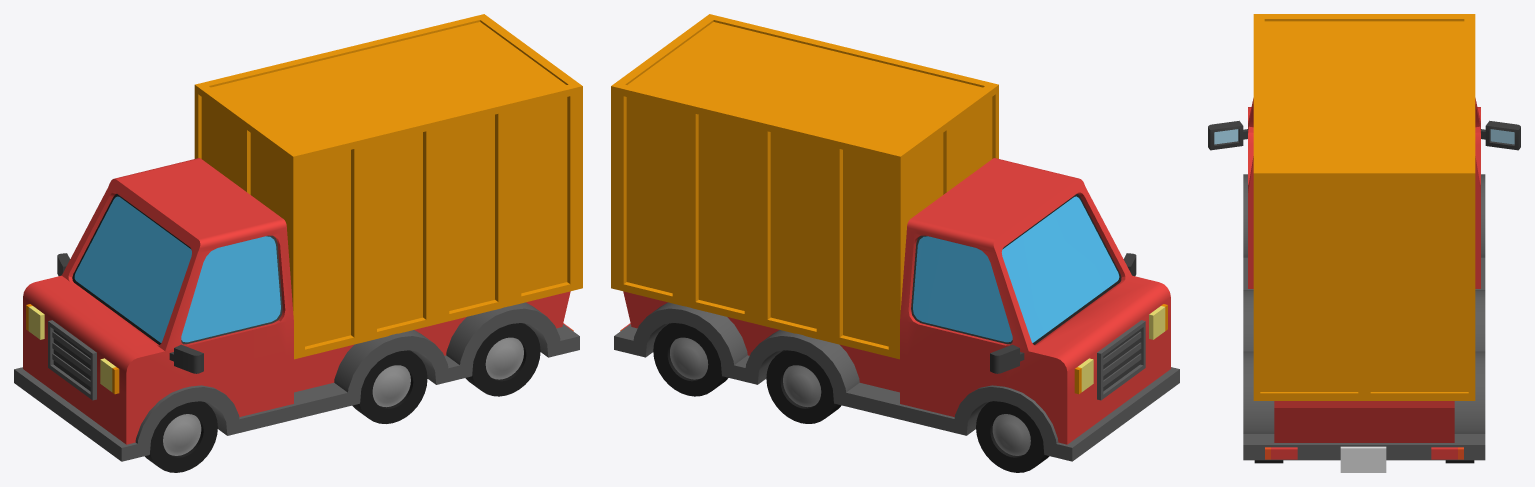
File: delivery_truck.glb
The picture shows the model from 3 angles, left to right: view 1: azimuth 30°, elevation 25°; view 2: azimuth 150°, elevation 25°; view 3: azimuth 270°, elevation 25°; orthographic projection. The views are drawn at different scales.
Visible parts, largest first — view 1: Cube.700; view 2: Cube.700; view 3: Cube.700.
Part boxes in pixels (<box>): Cube.700: <box>14,14,582,472</box>; Cube.700: <box>611,14,1179,472</box>; Cube.700: <box>1208,14,1520,472</box>.
Size of the model in its own units: 2.22 by 1.33 by 1.15.
1 material, 1 textured.
